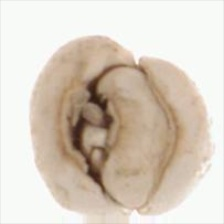L3: (64, 55, 175, 217)
L4: (29, 34, 210, 218)
